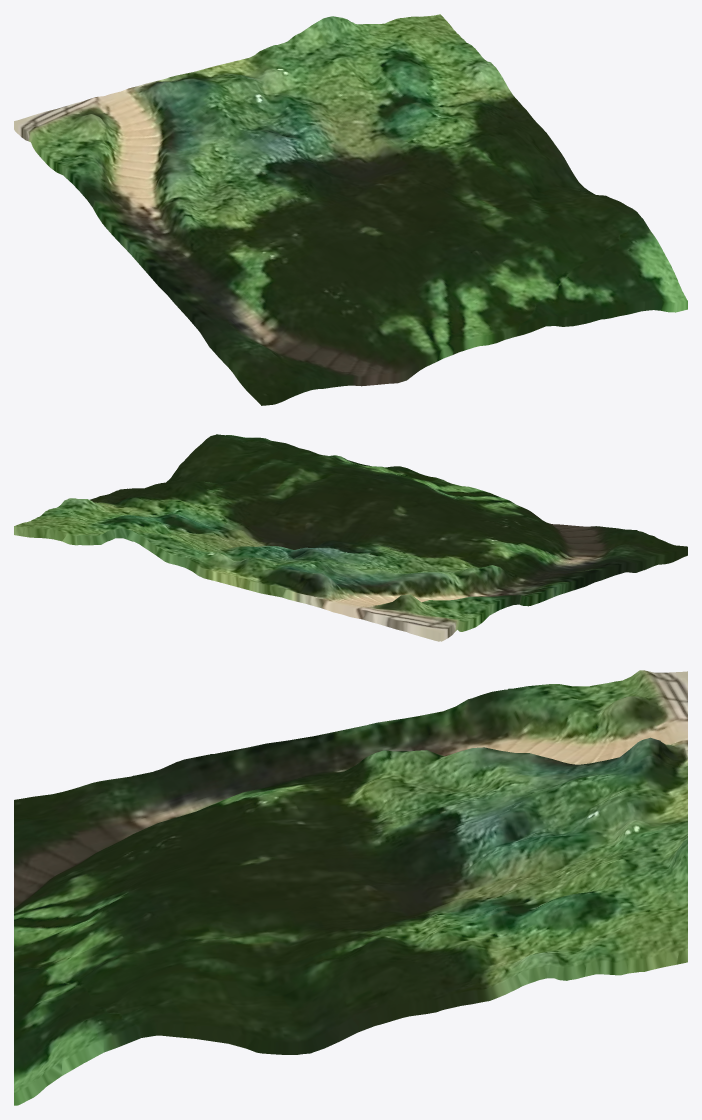
The model's file is z20-167561-405173-h0-yup-uvflip-v3-world.glb.
3 views of the same model, one above another, from view 1: azimuth 30°, elevation 25°; view 2: azimuth 150°, elevation 25°; view 3: azimuth 270°, elevation 25° (orthographic). The views are drawn at different scales.
Bounding box in the file's own units: 30.16 × 9.56 × 30.32.
1 material, 1 textured.
